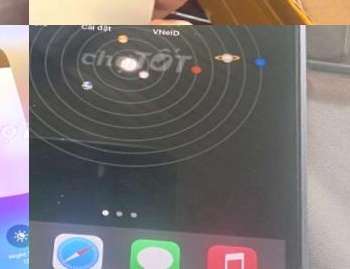scratch: (29, 32, 79, 146), (46, 184, 67, 208)
